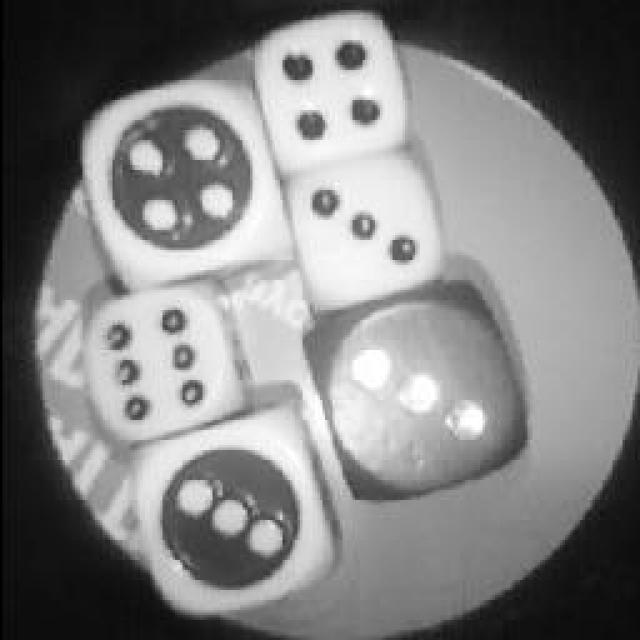dice_3: (302, 290, 530, 492), (128, 415, 330, 613), (272, 142, 470, 312)
dice_4: (83, 85, 285, 277), (255, 8, 410, 172)
dice_6: (90, 282, 232, 428)
